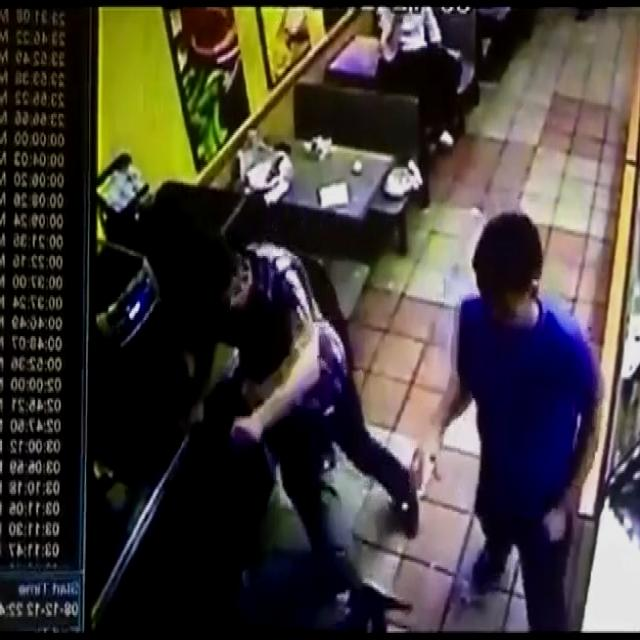fight: (176, 240, 364, 631)
